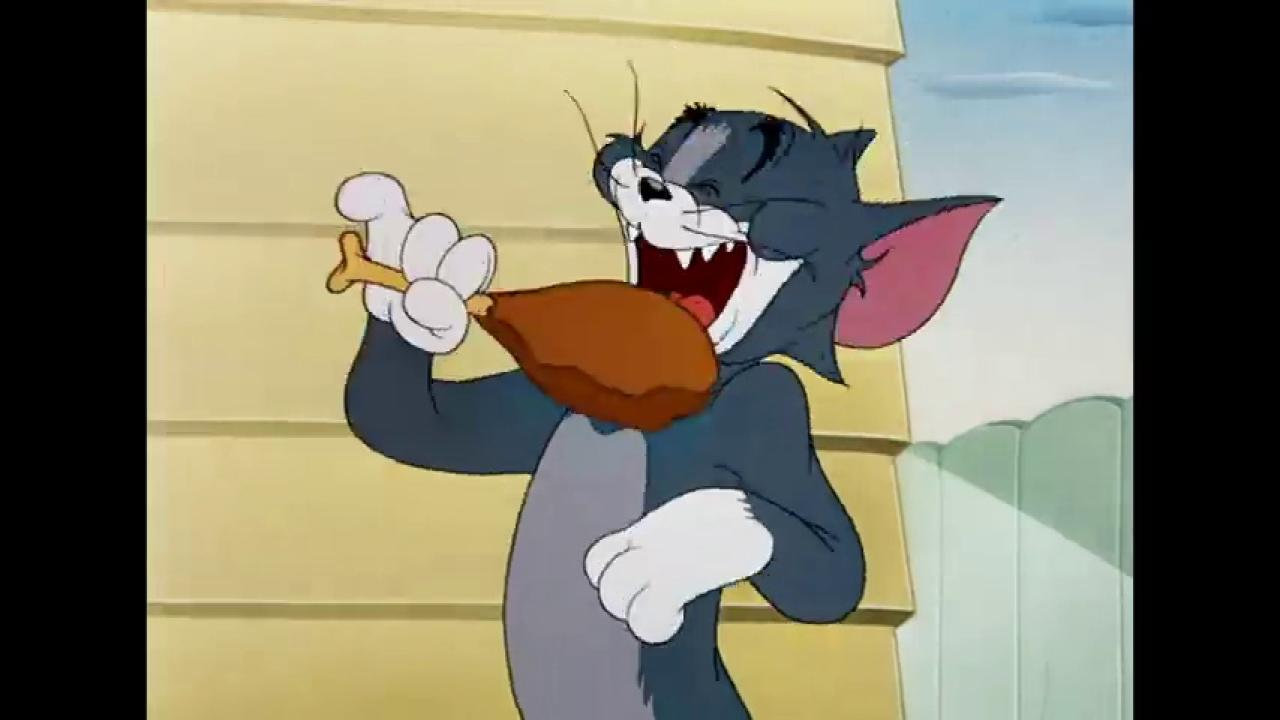Tom: (332, 100, 1005, 720)
